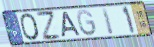1: (121, 5, 137, 35)
A: (60, 11, 83, 38)
G: (76, 9, 99, 38)
I: (101, 7, 116, 36)
O: (19, 12, 42, 42)
Z: (34, 11, 63, 42)
